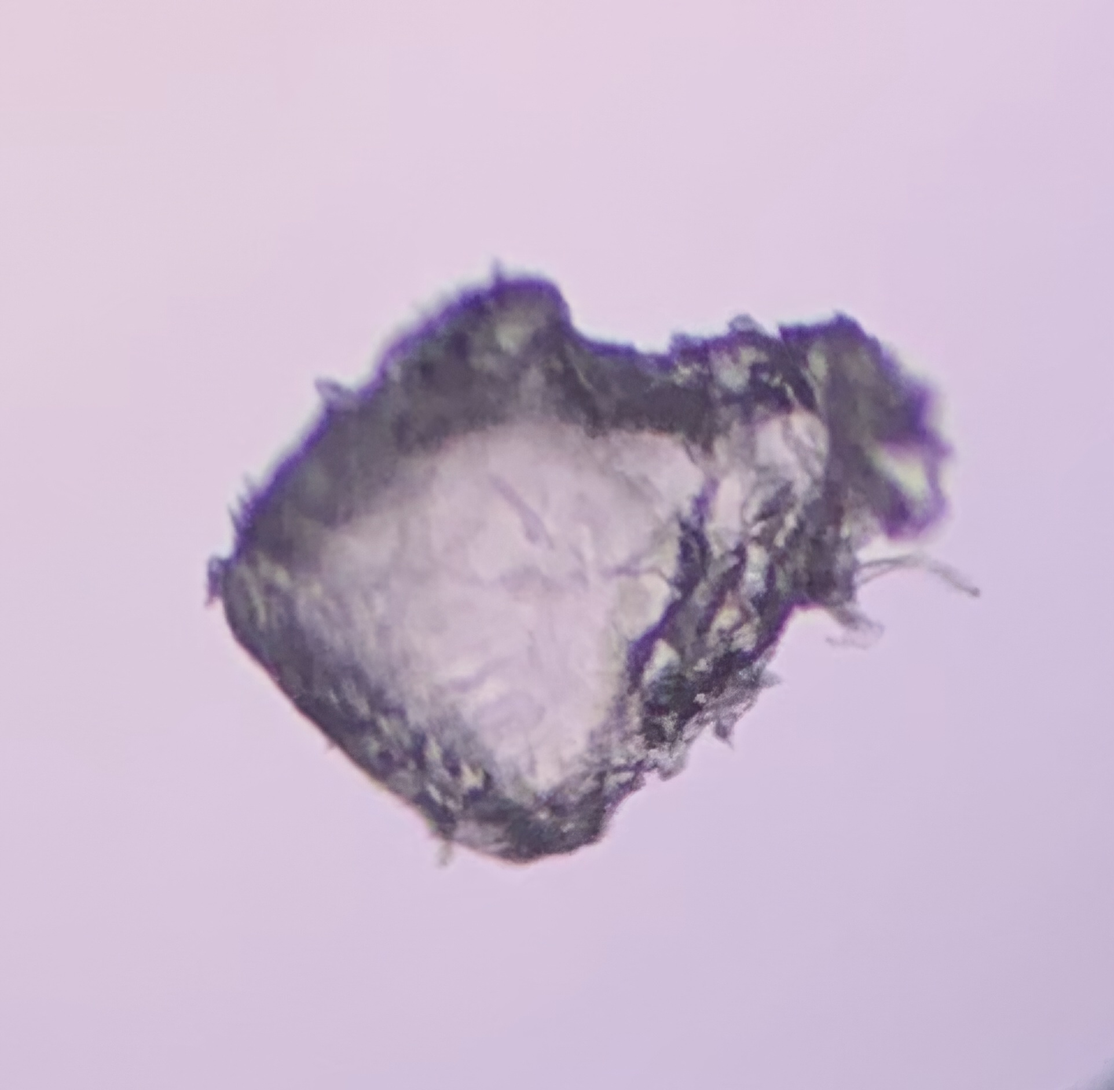microplastic: (210, 257, 986, 870)
